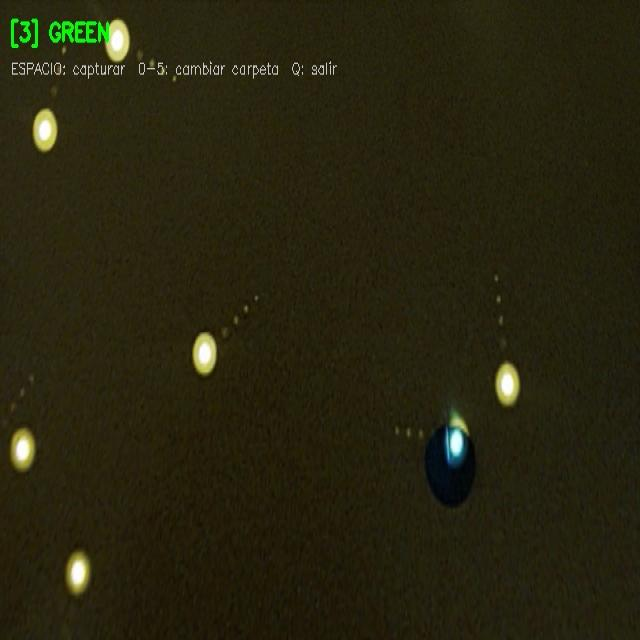green: (424, 419, 474, 512)
